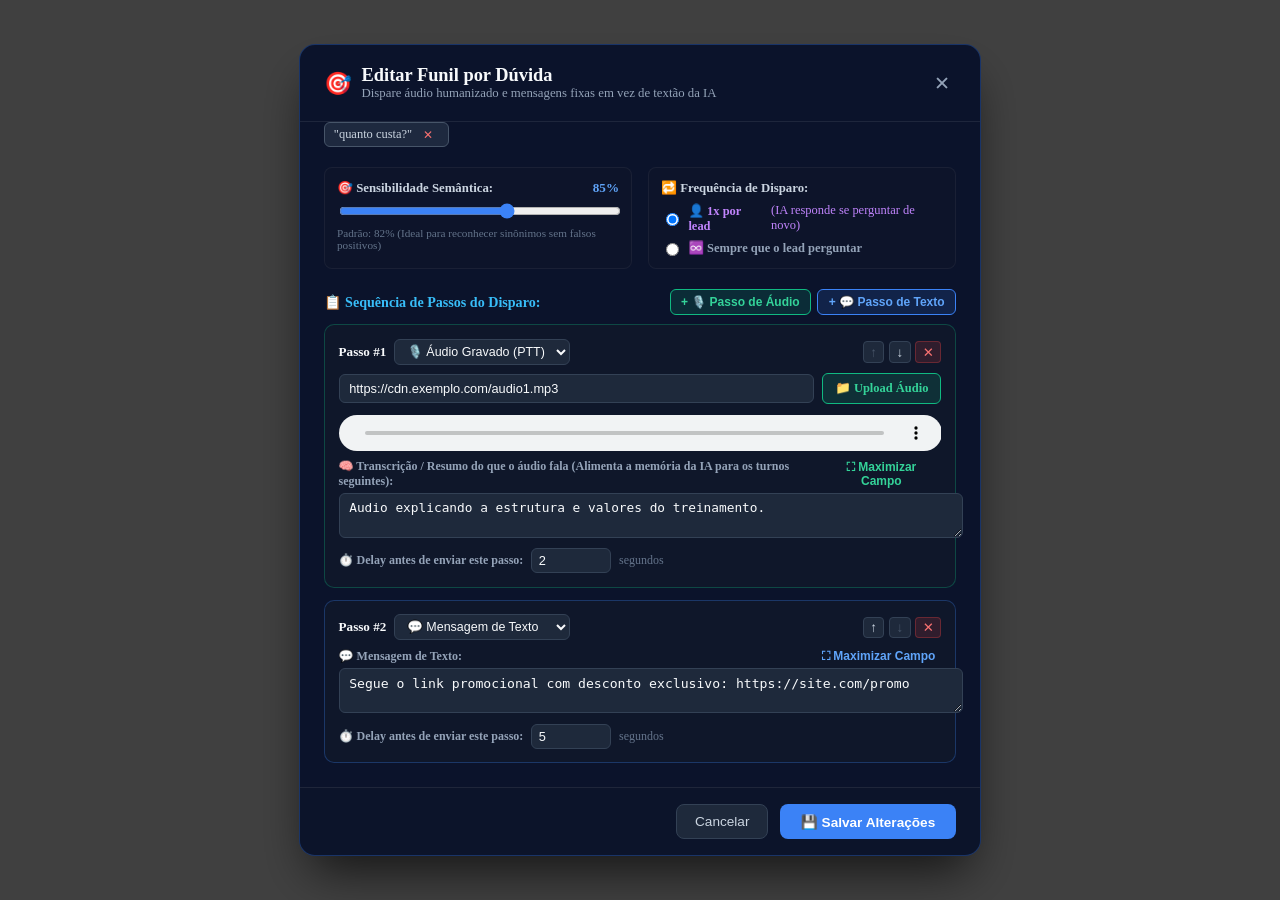
Scenario: QuestionFunnelModal - Funcionalidade de Maximizar Campo › deve abrir o modal de tela cheia ao clicar em maximizar no passo de mensagem de texto
(page scrolled)
Click the button with test id "maximize-step-text-1": (878, 656) [816,648,941,664]
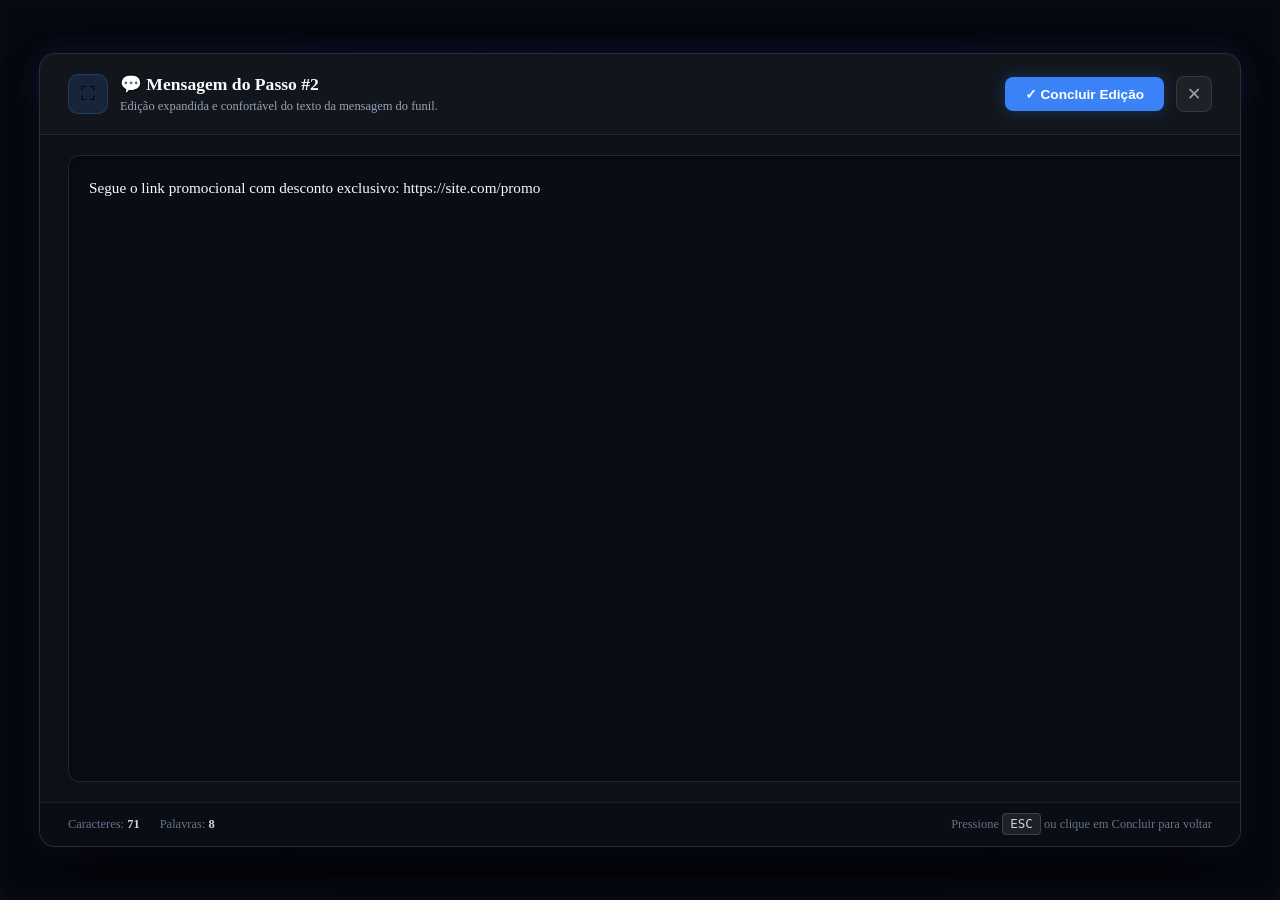
Check: the heading "💬 Mensagem do Passo #2" is shown, box [120,74,319,94]
Check: the text "Edição expandida e confortável do texto da mensagem do funil" is shown, box [120,99,438,113]
Check: the text box with placeholder "Digite o texto aqui..." is shown
